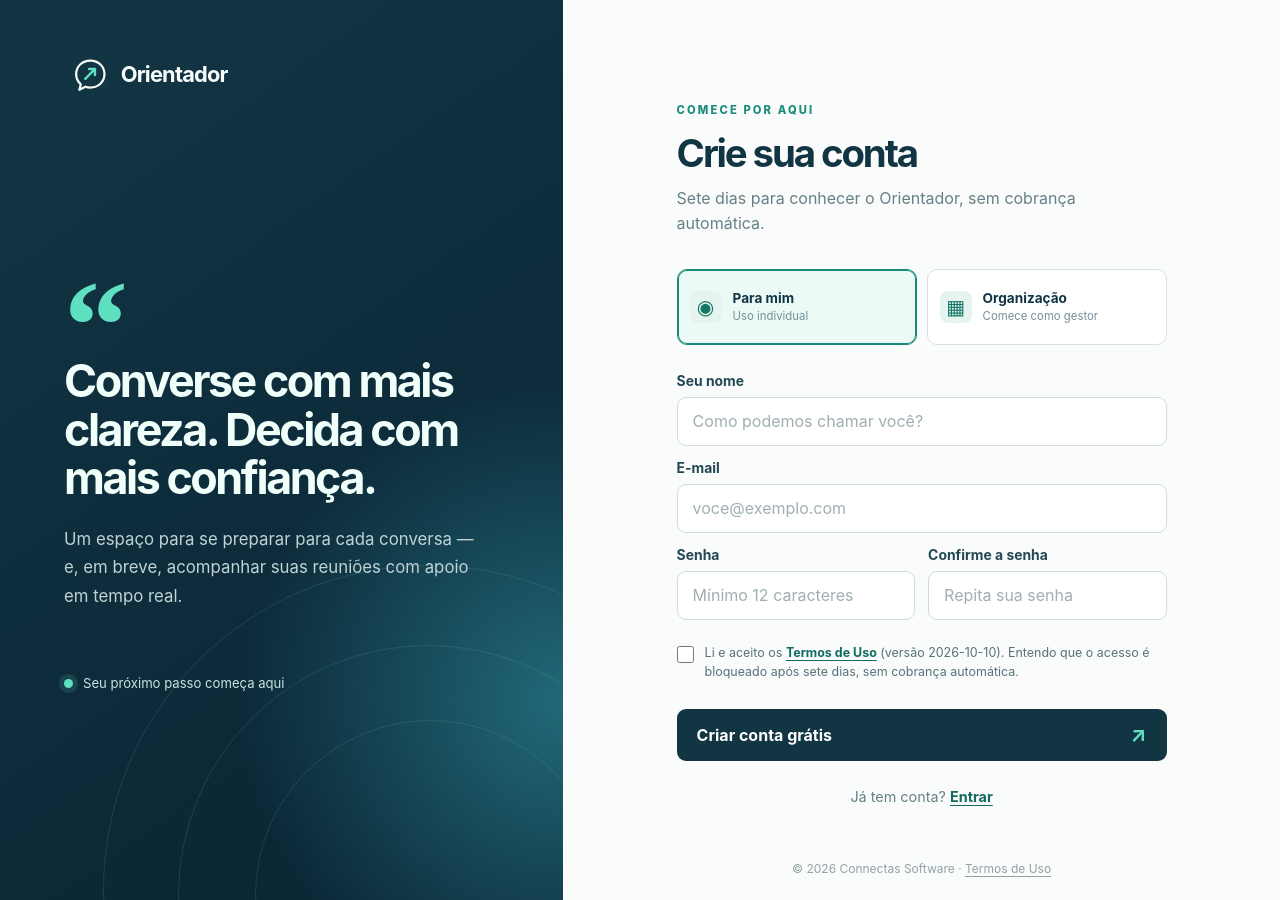
Test: cadastro › não envia senhas divergentes
This screenshot has width=1280, height=900.
Type "Pessoa Teste" into the field labelled "Seu nome" at (922,422), box [677, 397, 1167, 446]
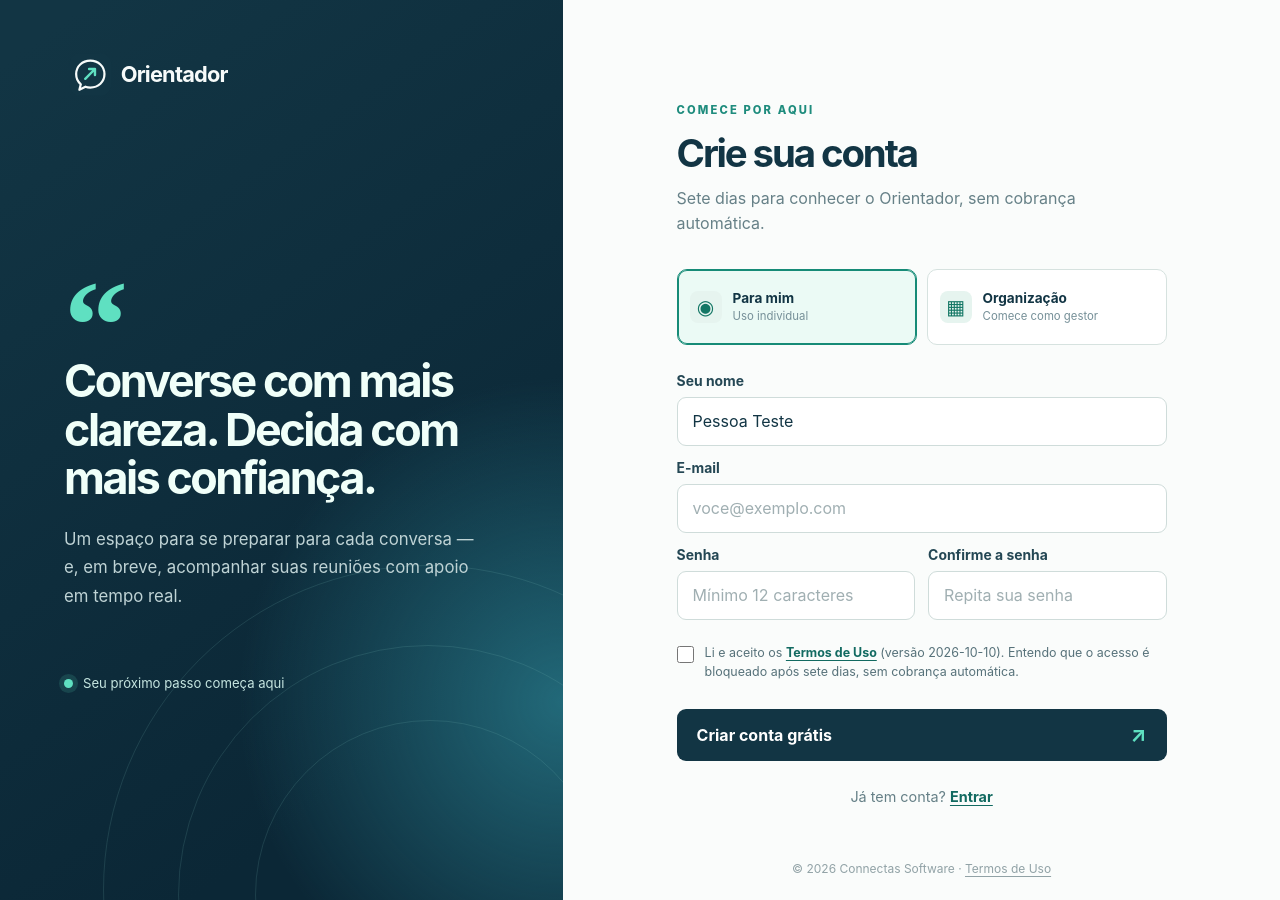
Type "pessoa@example.com" into the field labelled "E-mail" at (922,508), box [677, 484, 1167, 533]
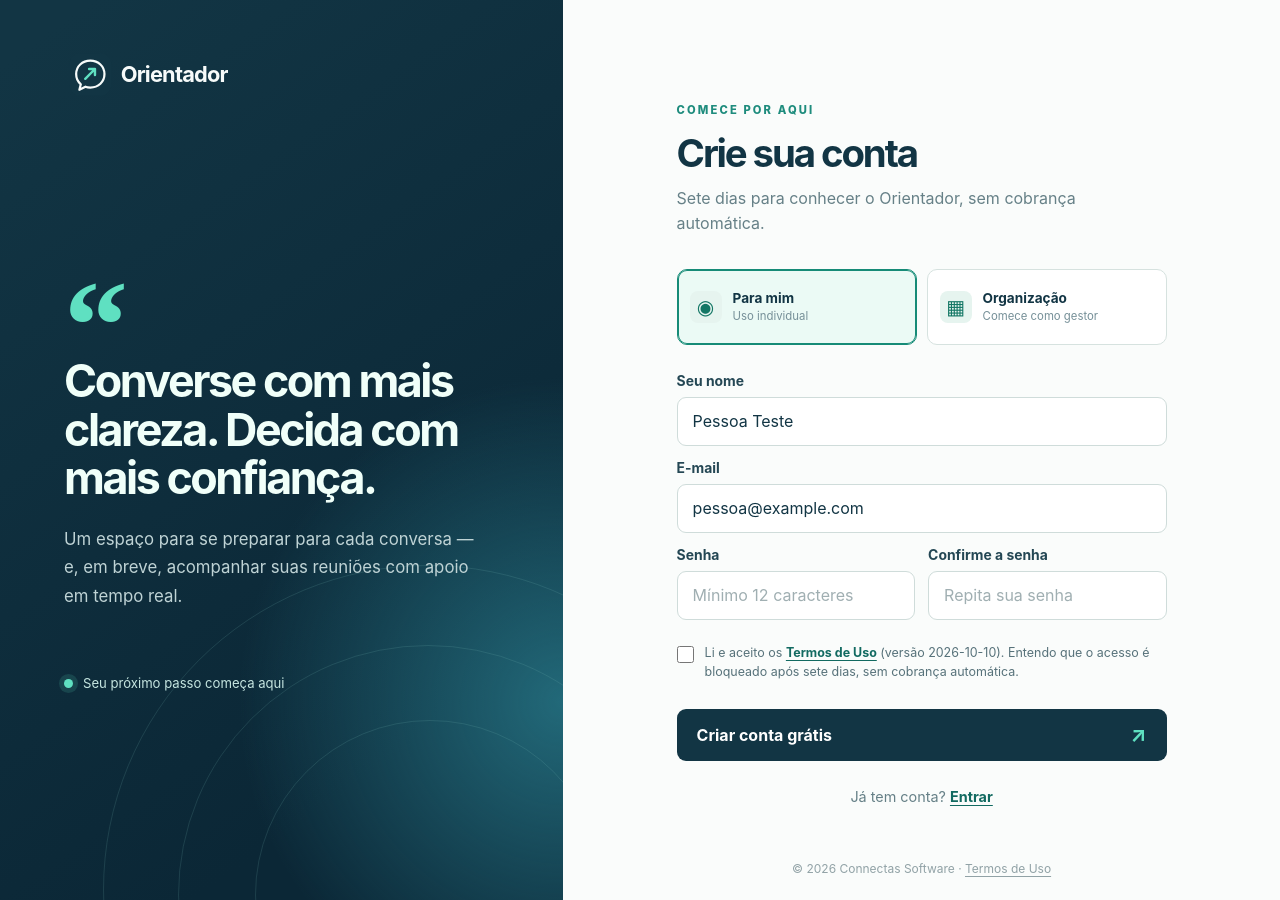
Type "senha-segura-123" into the password field labelled "Senha" at (796,596), box [677, 571, 915, 620]
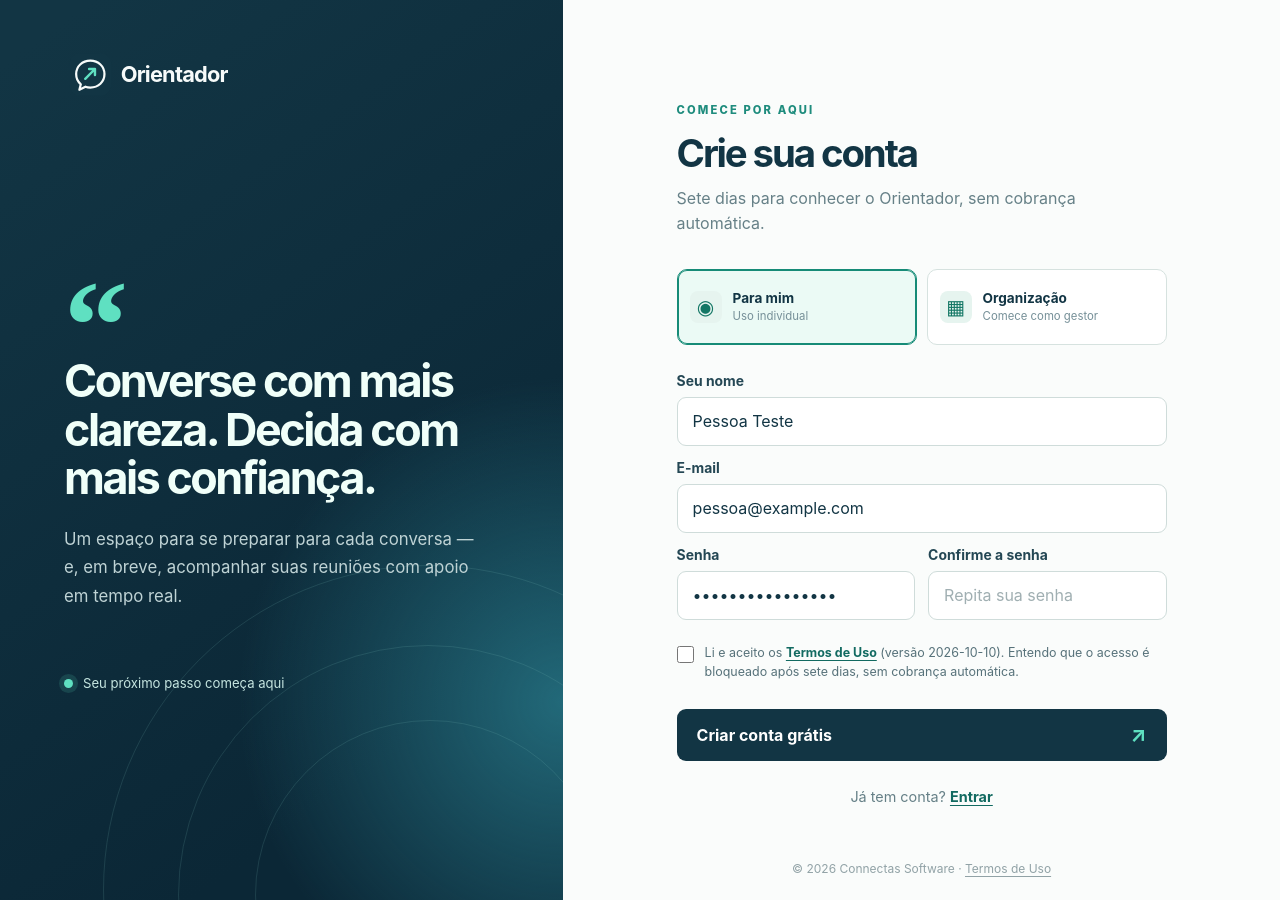
Type "outra-senha-123" into the password field labelled "Confirme a senha" at (1047,596), box [928, 571, 1167, 620]
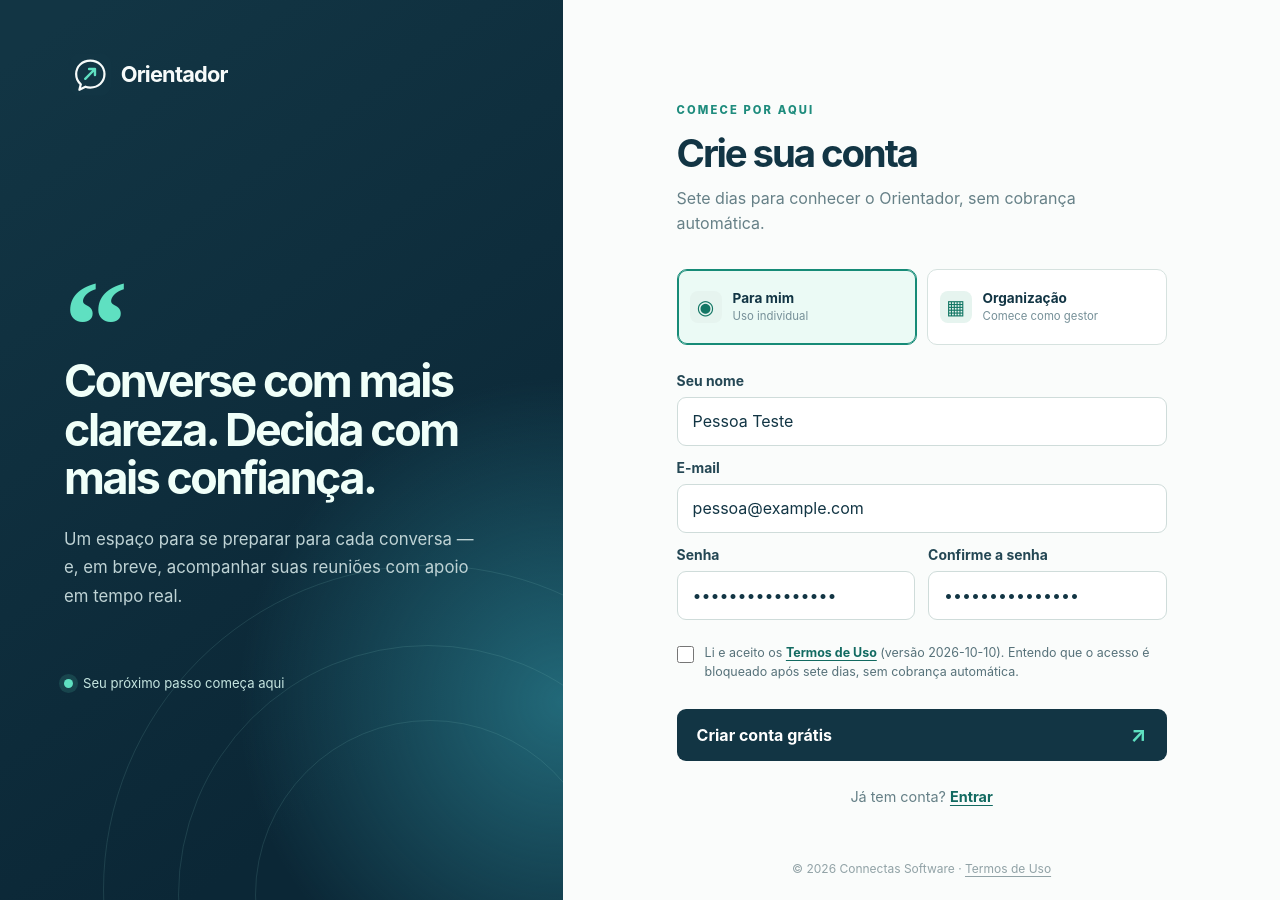
Click the checkbox at (685,654), box [677, 646, 694, 663]
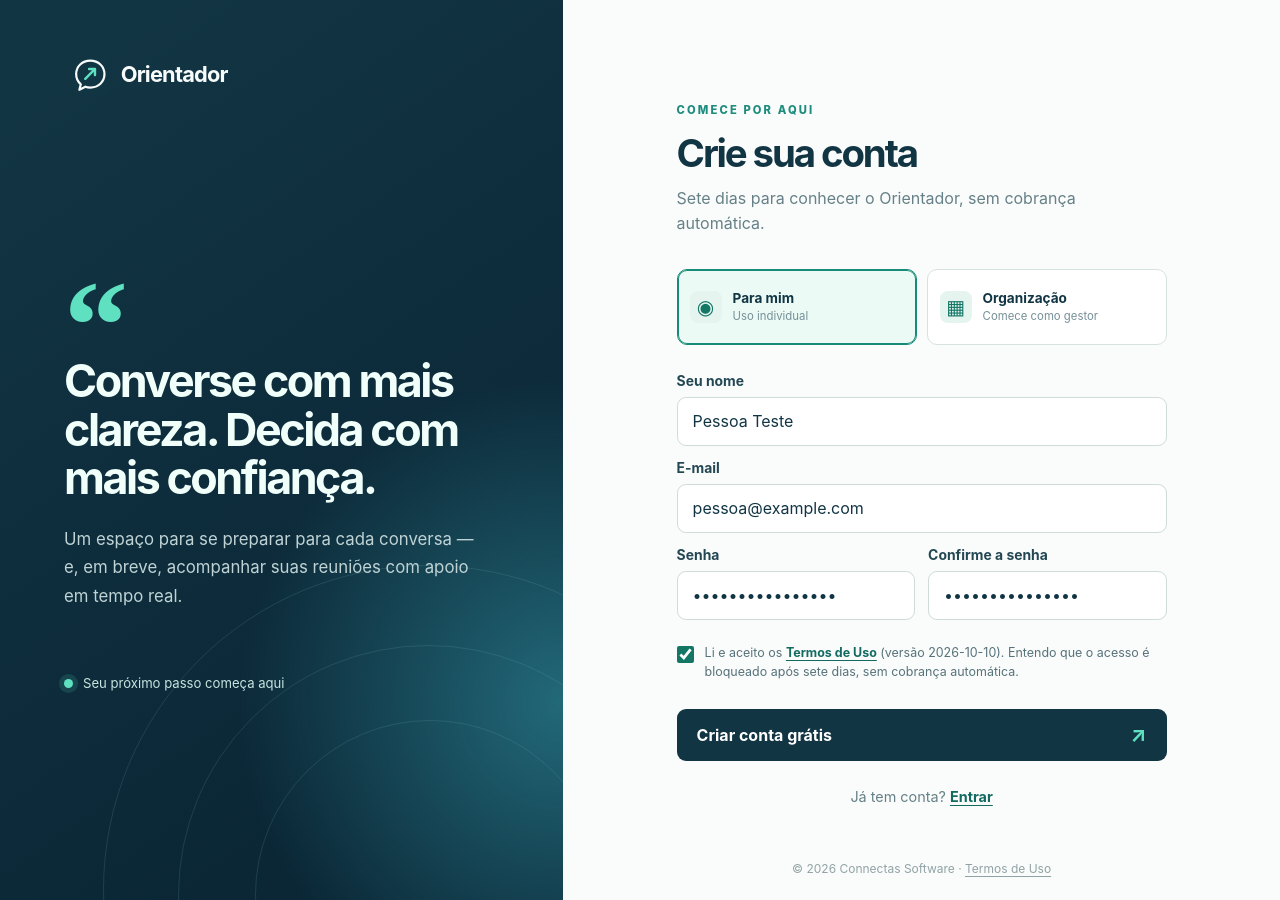
Click the button "Criar conta grátis ↗" at (764,735), box [677, 709, 1167, 761]
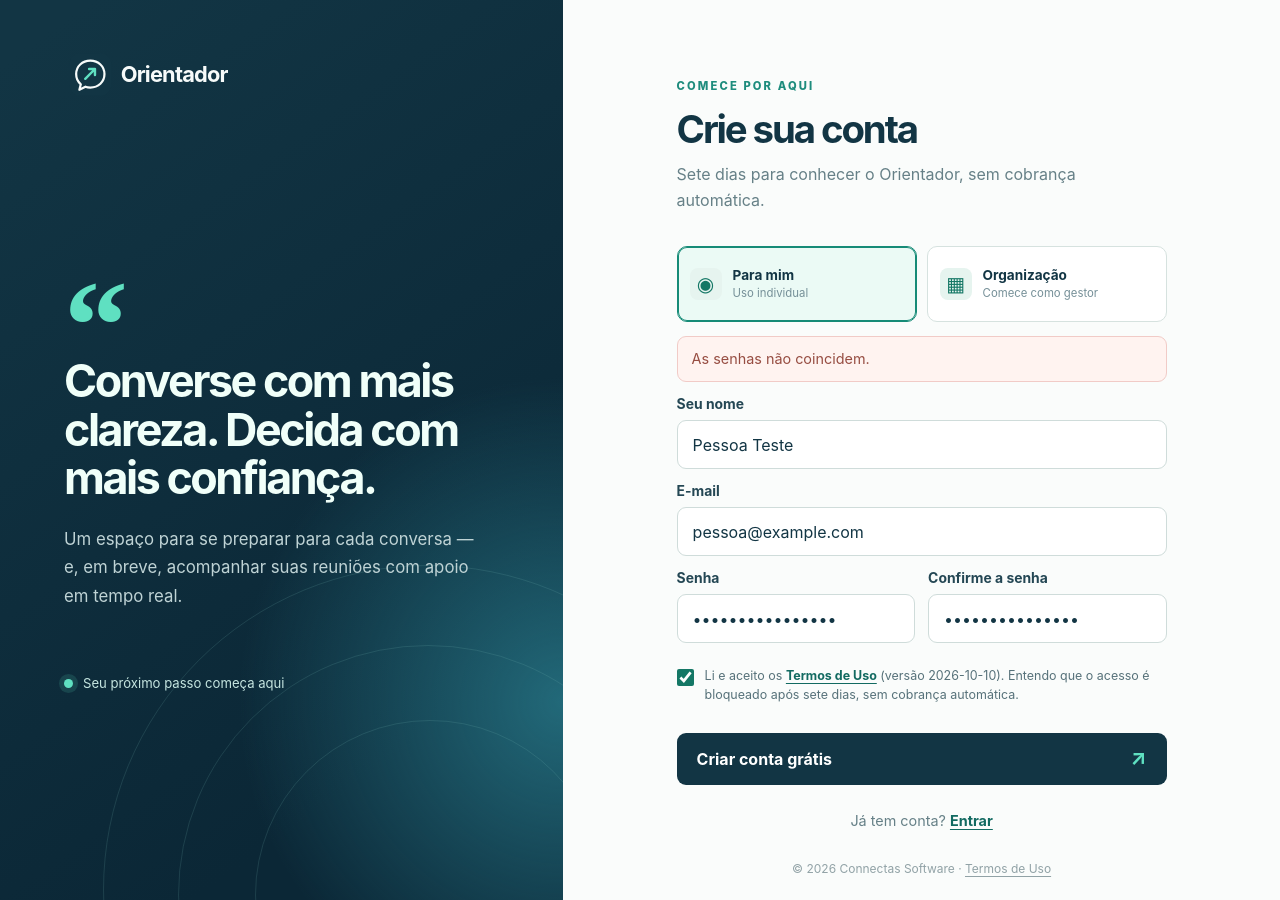
Now the message reads "As senhas não coincidem.", box [692, 350, 870, 366]
